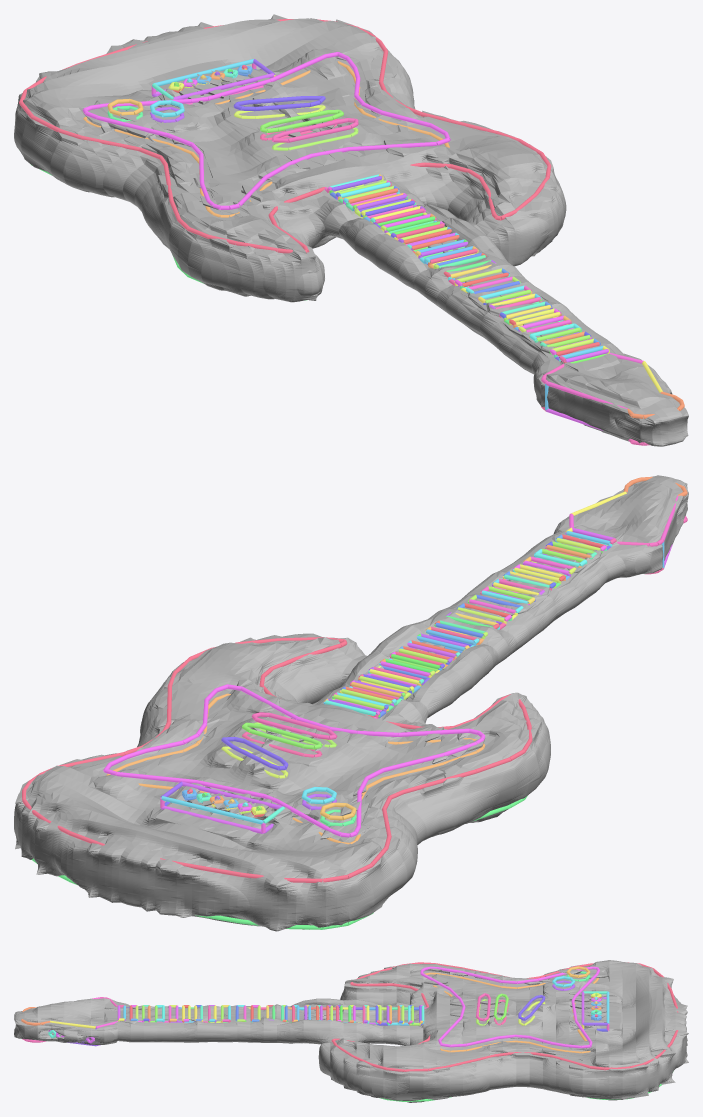
Rendered from onshape_guitar.gltf.
The picture shows the model from 3 angles, top to bottom: view 1: azimuth 30°, elevation 25°; view 2: azimuth 150°, elevation 25°; view 3: azimuth 270°, elevation 25°; orthographic projection. The views are drawn at different scales.
Bounding box in the file's own units: 0.3805 × 0.0995 × 0.9539.
